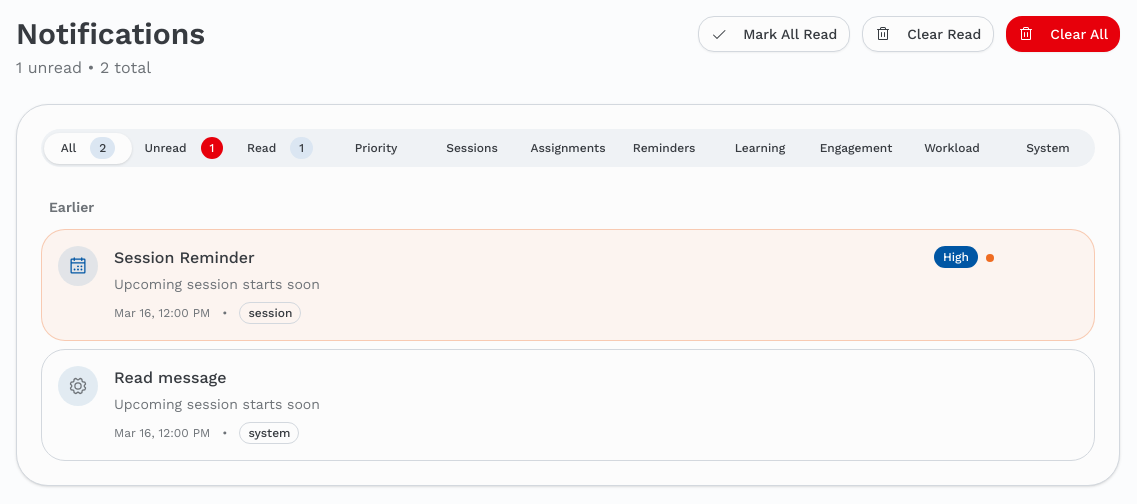
Test case: Notifications › filters notifications by selected tab
Click the tab "Unread 1" at x=184, y=148, box [140,132,228,164]
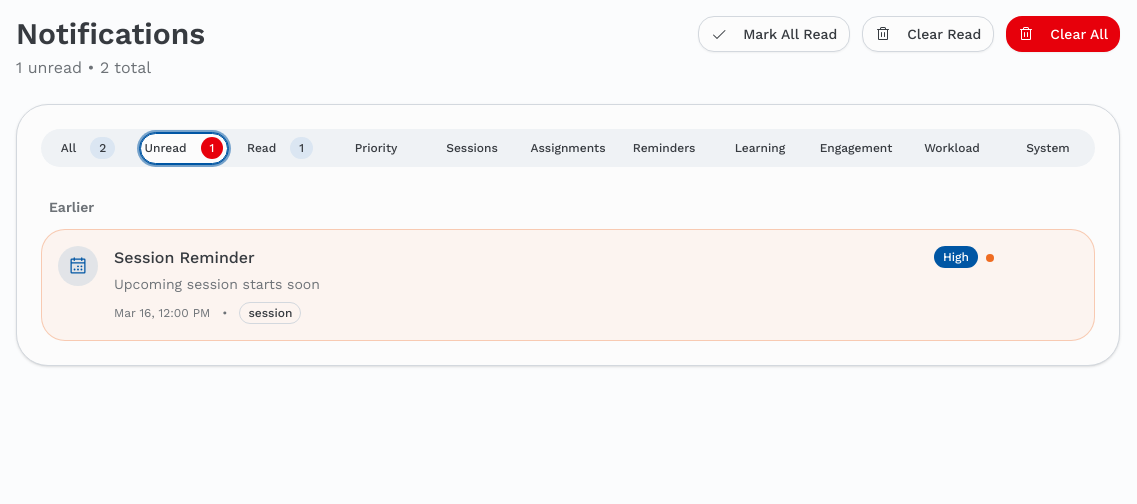
expect the text "Session Reminder" is shown: met, box [114,248,255,267]
expect the button "Read message" is gone: met
